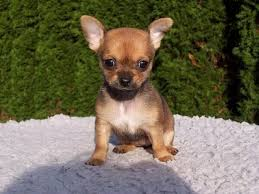chihuahua: (74, 12, 187, 164)
